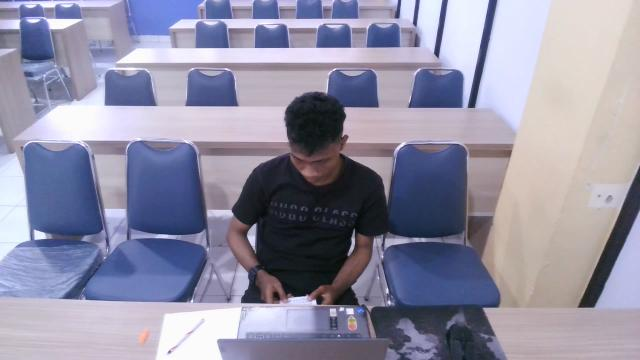Cheat_Sheet: (266, 287, 322, 313)
Head_Down_Extreme: (209, 84, 391, 347)
